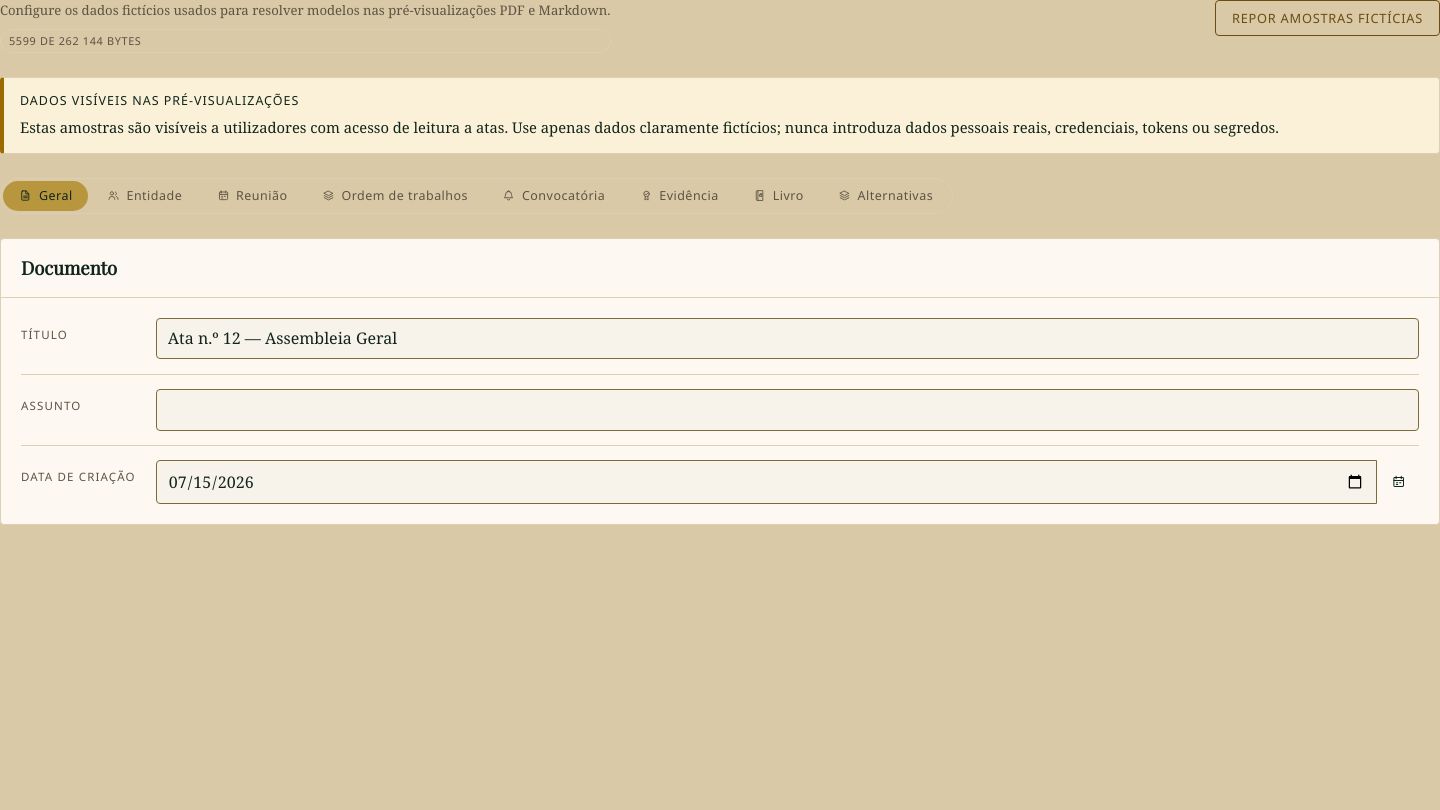
TemplatePreviewSamplesPanel › uses eight left-edge sub-tabs and full-width tables instead of a raw JSON editor
Expected: the text "Configure os dados fictícios usados para resolver modelos" is shown, 0,1 -> 610,19
Expected: the text "nunca introduza dados pessoais reais, credenciais, tokens" is shown, 20,117 -> 1279,137
Click the button "Entidade".
click(145, 196)  # box 91,181 -> 198,211
(page scrolled)
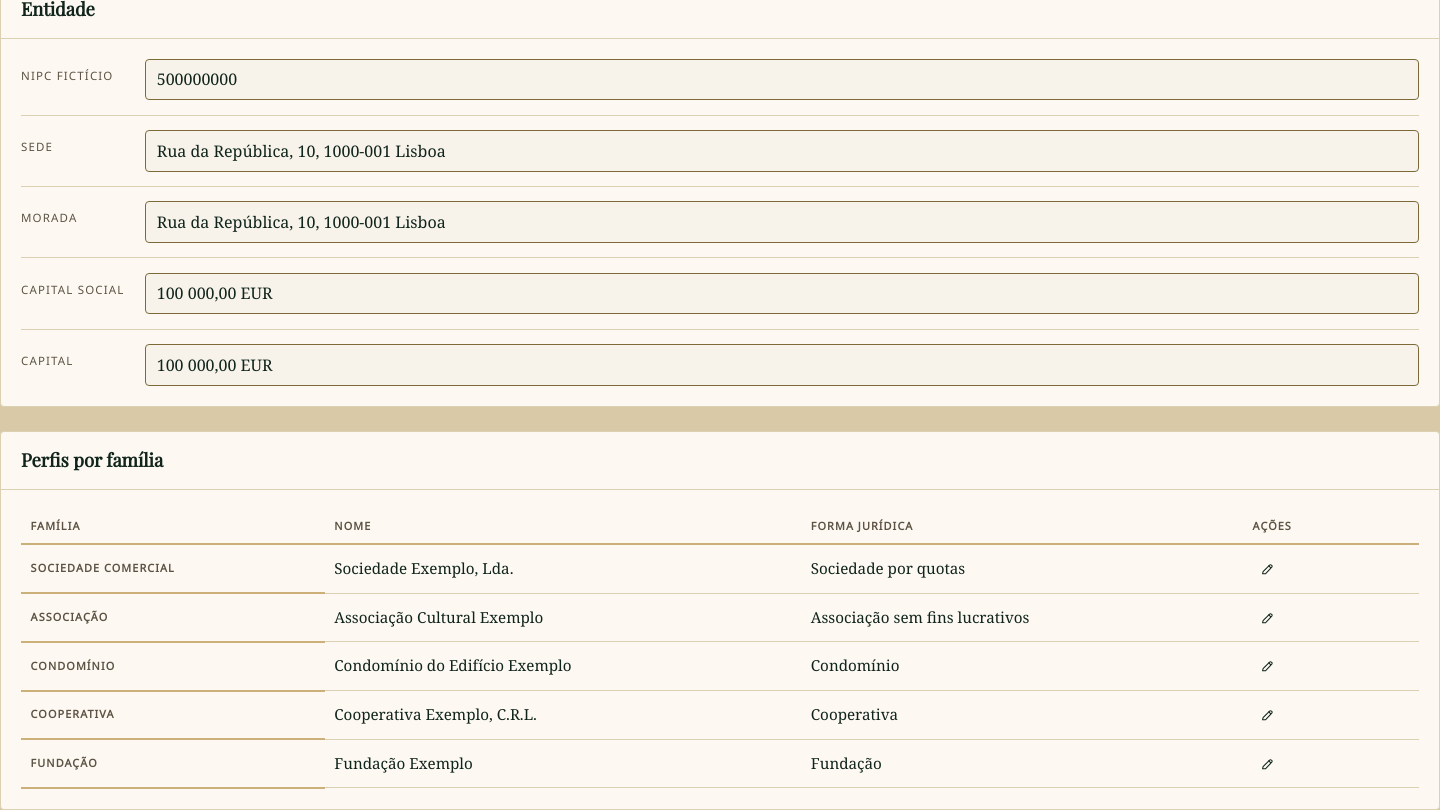
Now the number of rows is 6, box 21,510 -> 1419,544; 21,545 -> 1419,593; 21,593 -> 1419,642; 21,642 -> 1419,690; 21,690 -> 1419,739; 21,739 -> 1419,788
Now the row "Sociedade comercial" is shown, box 21,545 -> 1419,593
Now the element named "Perfis por família" is shown, box 21,510 -> 1419,789
